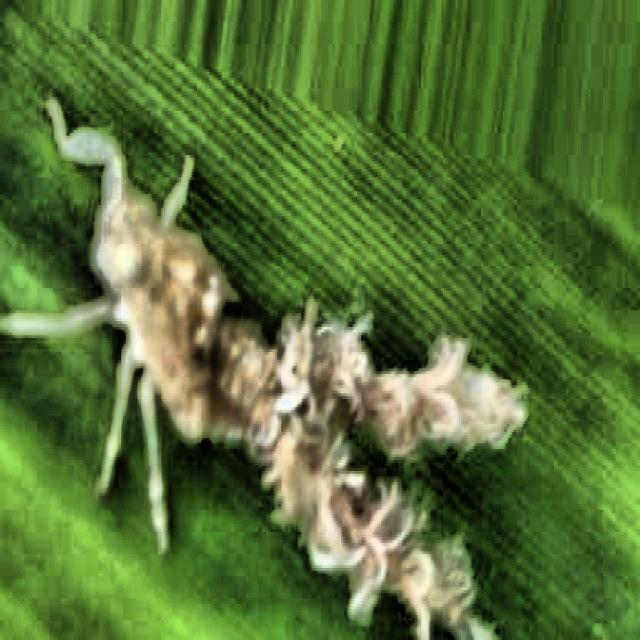Pyrilla-perpusilla: (10, 52, 532, 640)
